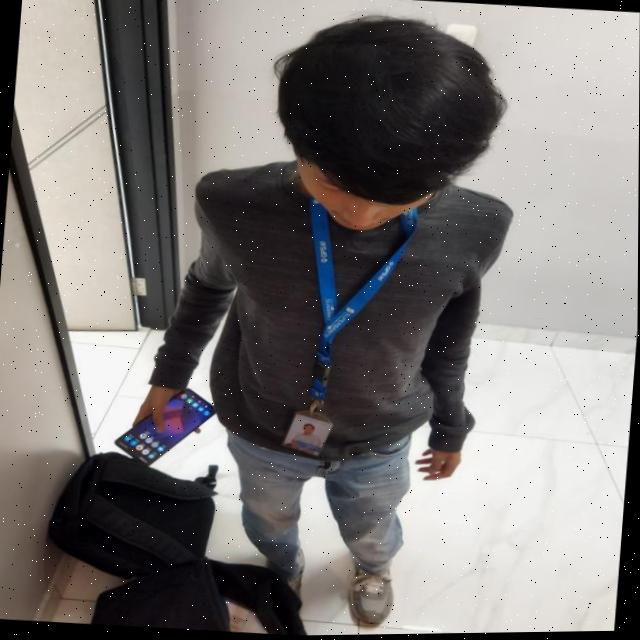id_card: (278, 199, 425, 473)
